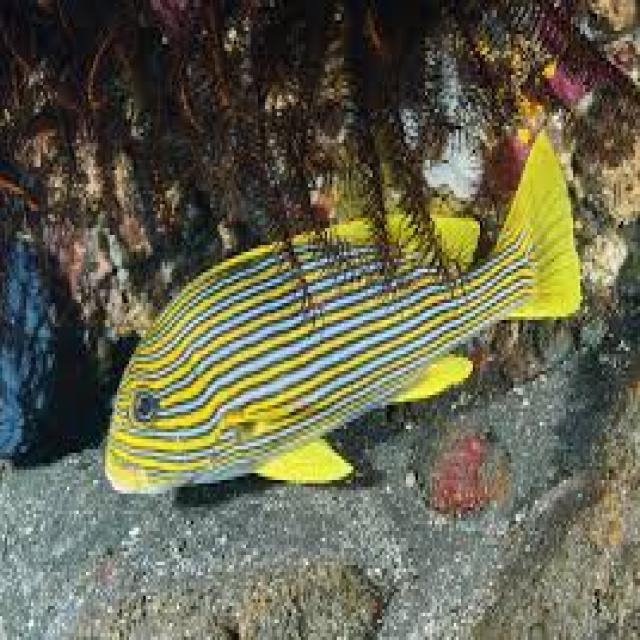RibbonedSweetlips: (100, 123, 583, 497)
